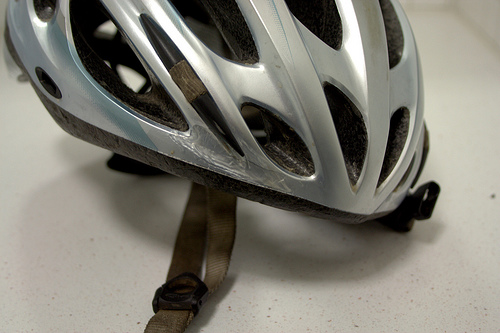helmet: (5, 1, 438, 216)
